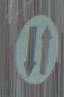Two way: (10, 6, 60, 78)
